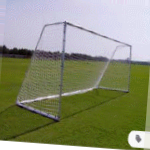goals: (15, 19, 135, 122)
